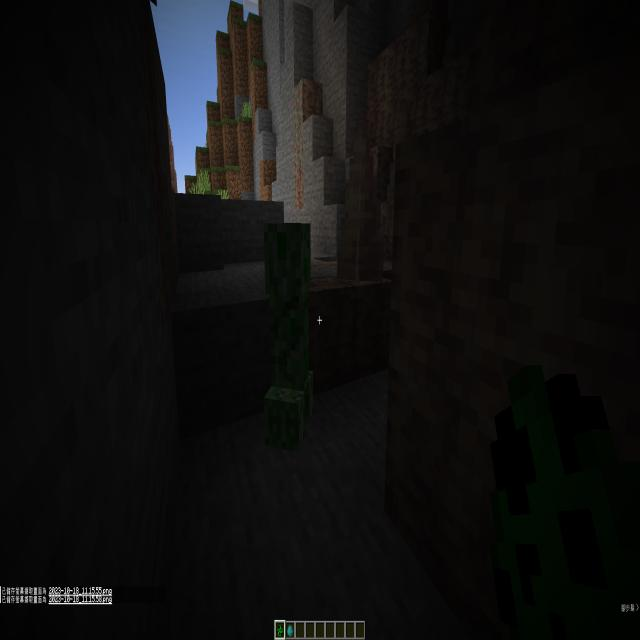Creeper: (249, 212, 337, 466)
